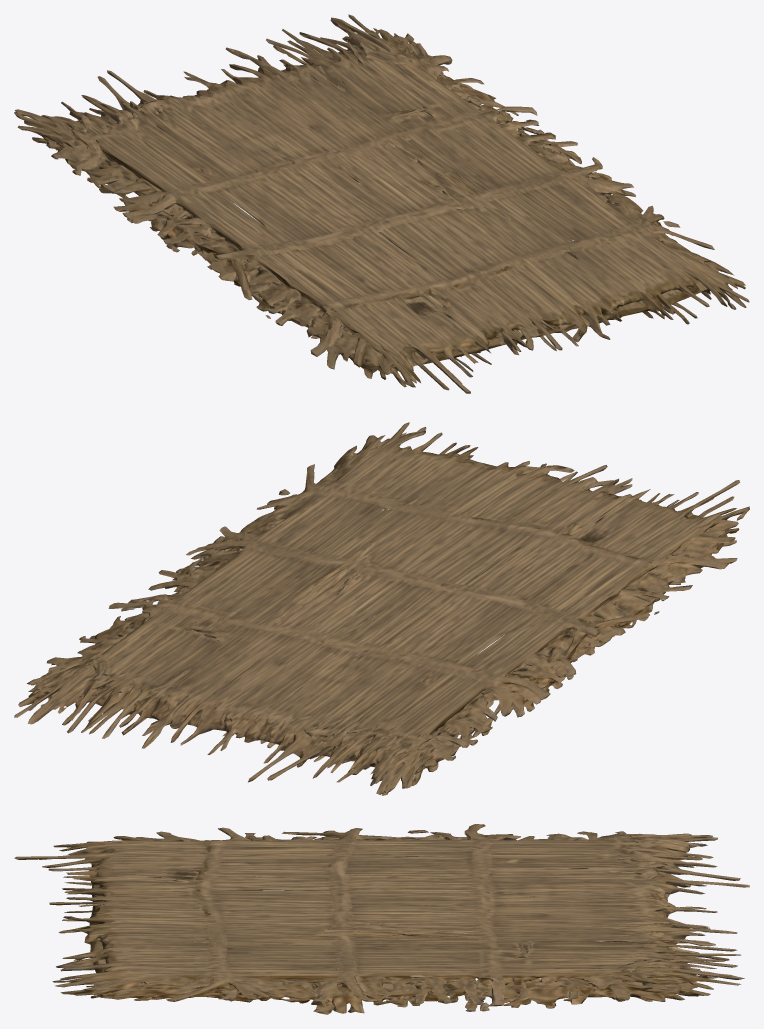
The model's file is solitary-mat.glb.
3 renders of one model, top to bottom at view 1: azimuth 30°, elevation 25°; view 2: azimuth 150°, elevation 25°; view 3: azimuth 270°, elevation 25°, orthographic. The views are drawn at different scales.
Visible parts, largest first — view 1: 破旧草席; view 2: 破旧草席; view 3: 破旧草席.
Part boxes in pixels (bbox=[...]): 破旧草席: bbox=[14, 14, 749, 393]; 破旧草席: bbox=[14, 422, 749, 795]; 破旧草席: bbox=[14, 824, 749, 1014].
Size of the model in its own units: 1.6 by 0.1 by 2.8.
Materials: 1 (1 with a texture image).
